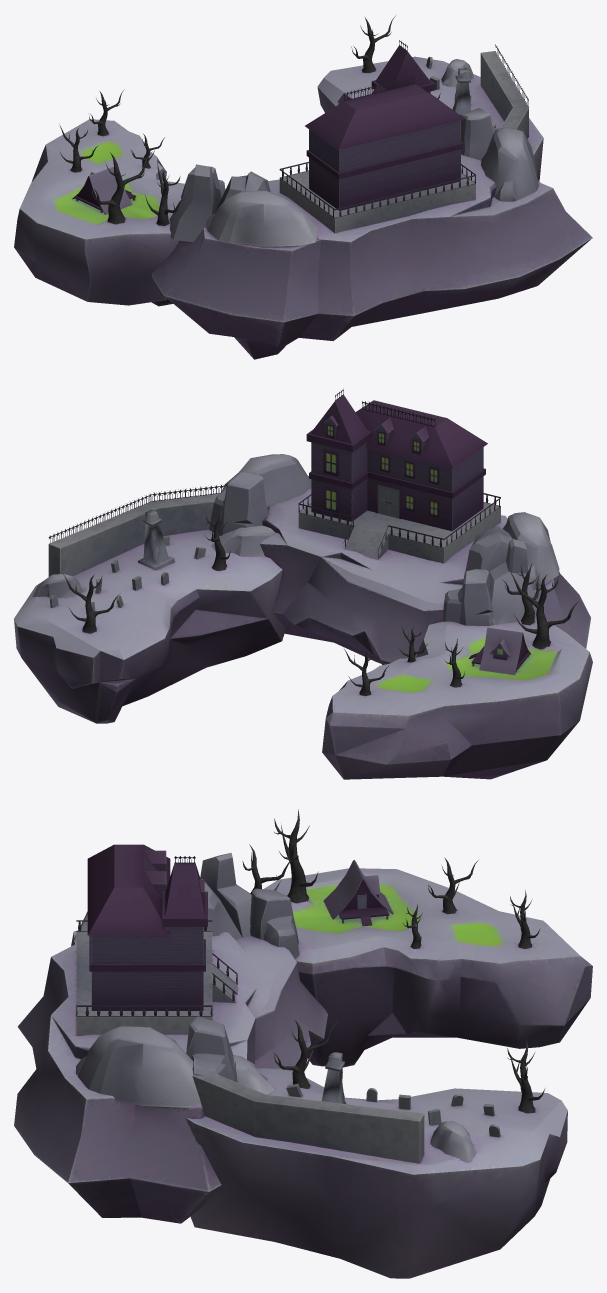
File: arena_haunted.glb
3 views of the same model, one above another, from view 1: azimuth 30°, elevation 25°; view 2: azimuth 150°, elevation 25°; view 3: azimuth 270°, elevation 25° (orthographic). The views are drawn at different scales.
Parts seen in each view (by area): view 1: mesh_0, mesh_0_5, mesh_0_12, mesh_0_4, mesh_0_11, mesh_0_2, mesh_0_1, mesh_0_9, mesh_0_10; view 2: mesh_0, mesh_0_5, mesh_0_12, mesh_0_2, mesh_0_4, mesh_0_11, mesh_0_1, mesh_0_7, mesh_0_10, mesh_0_9, mesh_0_8, mesh_0_3 (+1 smaller); view 3: mesh_0, mesh_0_12, mesh_0_5, mesh_0_2, mesh_0_11, mesh_0_4, mesh_0_1, mesh_0_9, mesh_0_3, mesh_0_6.
Boxes of the visible parts, x1,y1,x2,y2 form: mesh_0: (14, 56, 592, 359); mesh_0_5: (305, 45, 464, 210); mesh_0_12: (169, 59, 538, 246); mesh_0_4: (279, 171, 475, 233); mesh_0_11: (59, 15, 440, 225); mesh_0_2: (452, 51, 528, 138); mesh_0_1: (72, 166, 136, 214); mesh_0_9: (279, 162, 475, 218); mesh_0_10: (344, 40, 528, 107); mesh_0: (14, 488, 592, 779); mesh_0_5: (306, 395, 487, 531); mesh_0_12: (32, 454, 559, 625); mesh_0_2: (48, 493, 219, 576); mesh_0_4: (298, 502, 500, 563); mesh_0_11: (62, 508, 579, 696); mesh_0_1: (468, 627, 530, 674); mesh_0_7: (323, 424, 438, 517); mesh_0_10: (48, 389, 435, 542); mesh_0_9: (298, 493, 500, 558); mesh_0_8: (375, 482, 401, 518); mesh_0_3: (50, 536, 205, 611); mesh_0: (14, 868, 592, 1278); mesh_0_12: (73, 852, 476, 1162); mesh_0_5: (87, 844, 207, 1010); mesh_0_2: (192, 1052, 424, 1163); mesh_0_11: (242, 809, 545, 1113); mesh_0_4: (76, 931, 237, 1036); mesh_0_1: (323, 860, 393, 926); mesh_0_9: (76, 920, 237, 1016); mesh_0_3: (286, 1083, 500, 1137); mesh_0_6: (144, 850, 204, 906).
Bounding box in the file's own units: 380 × 218 × 310.
Materials: 13 (13 with a texture image).
